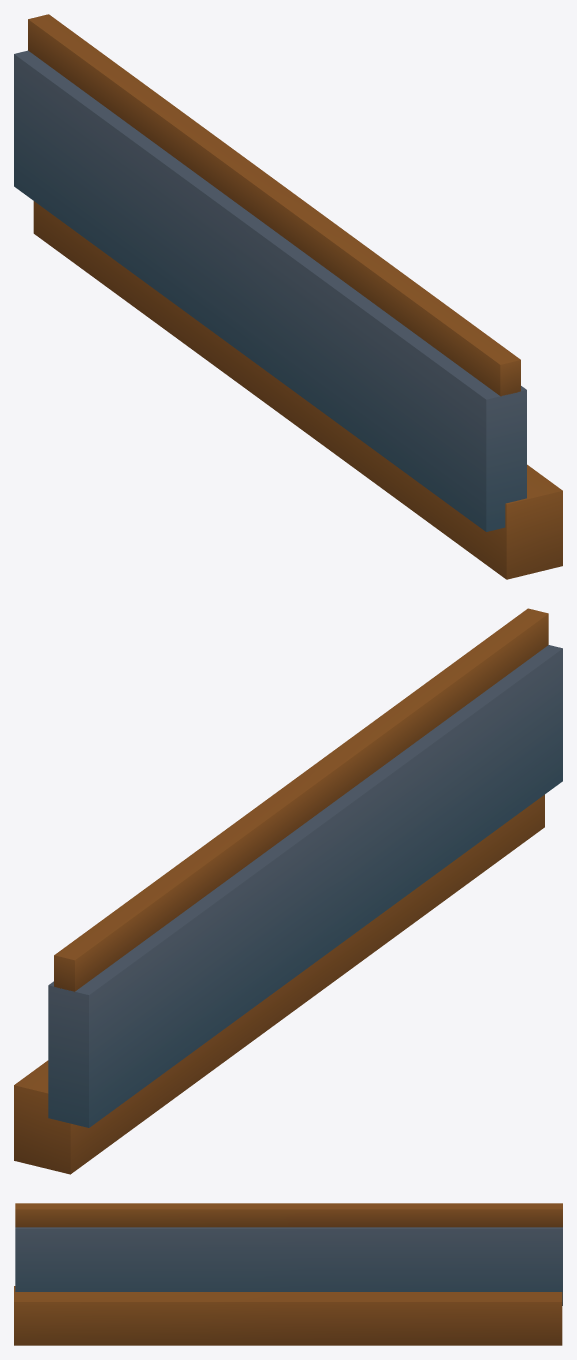
File: wall.glb
The picture shows the model from 3 angles, top to bottom: view 1: azimuth 30°, elevation 25°; view 2: azimuth 150°, elevation 25°; view 3: azimuth 270°, elevation 25°; orthographic projection. The views are drawn at different scales.
Parts seen in each view (by area): view 1: wall; view 2: wall; view 3: wall.
Part boxes in pixels (left/top/right/bottom): wall: left=14, top=14, right=562, bottom=579; wall: left=14, top=608, right=562, bottom=1174; wall: left=14, top=1203, right=562, bottom=1345.
Bounding box in the file's own units: 11.78 × 32.1 × 128.
Materials: 1 (1 with a texture image).
